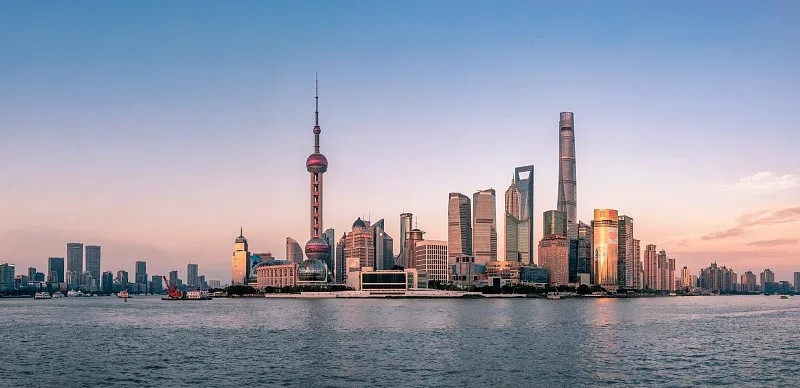Oriental: (305, 72, 330, 261)
